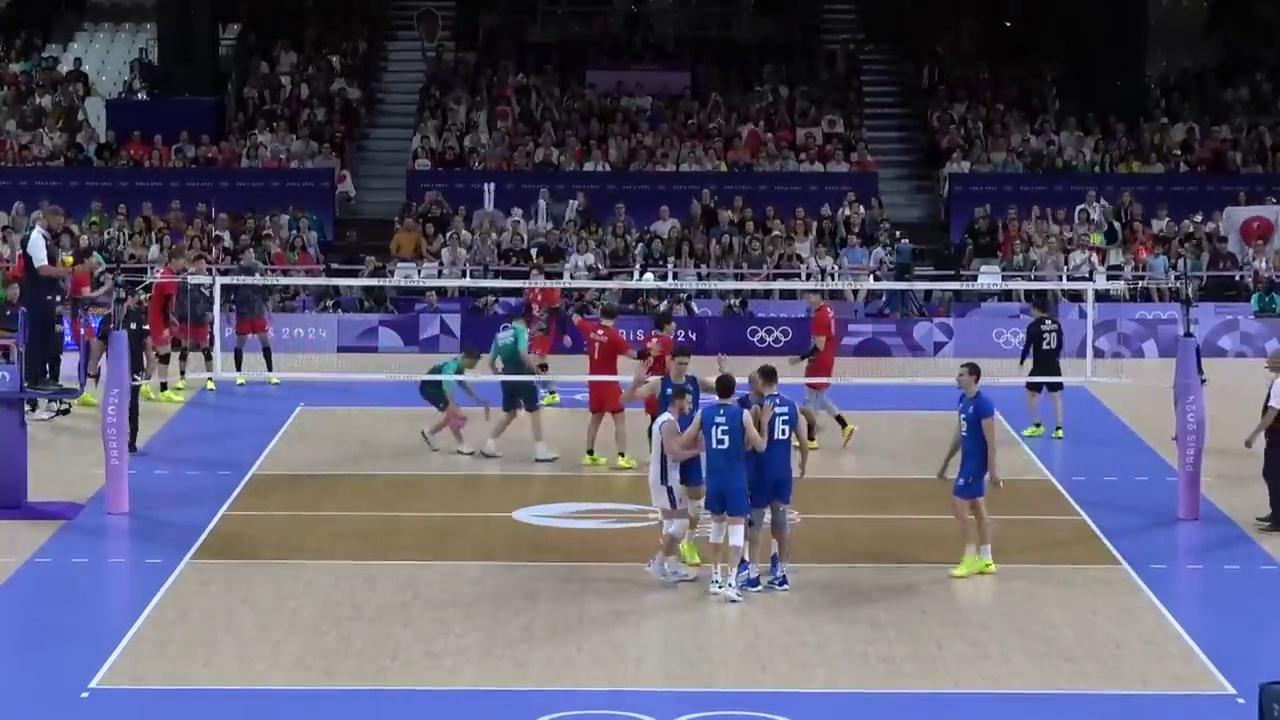ball: (58, 255, 74, 268)
